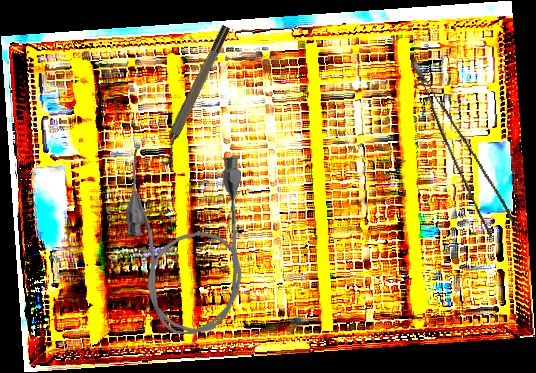Cannula: (122, 144, 249, 337)
Fixation Ring: (151, 23, 239, 168)
Tissue Forceps: (410, 45, 517, 241)
